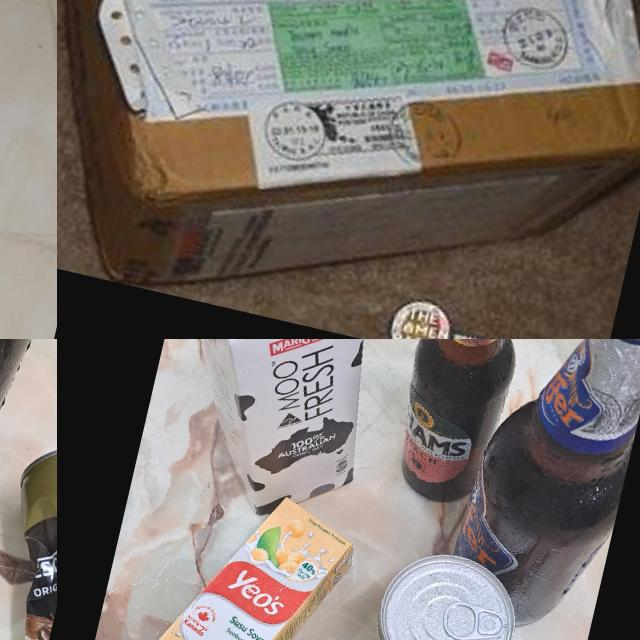aba de lata: (438, 598, 509, 640)
caixinha: (130, 339, 415, 534), (131, 473, 362, 640), (0, 449, 34, 640)
garrafa de vidro: (441, 339, 640, 640), (385, 339, 542, 513), (0, 339, 57, 515)
lata: (355, 541, 526, 640), (0, 432, 57, 640)
papelão: (57, 0, 640, 339)
sacola plástica: (0, 0, 43, 339)
